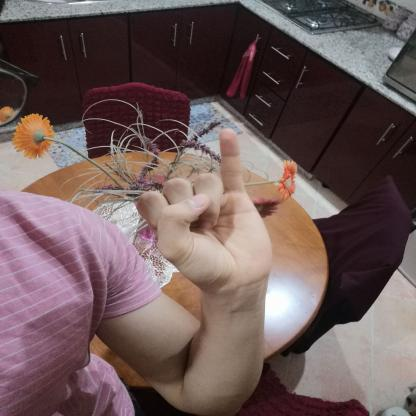MEEM: (117, 120, 292, 300)
